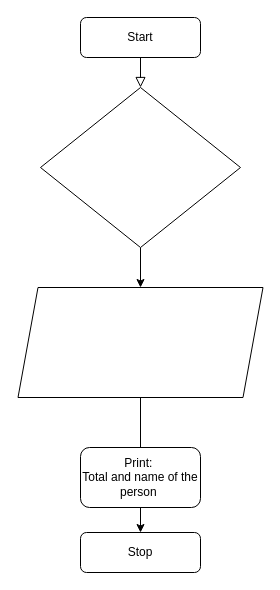
This 280x590 diagram has some shape labels left out. The box of each missing label's shape, as (x1, y1, x2, y2) in pixels:
Input: Name Amount of Lunch Menu item Amount of Drink: (40, 86, 240, 248)
result: Calculate the total item and drinks then add the 15% tax: (17, 286, 263, 398)
